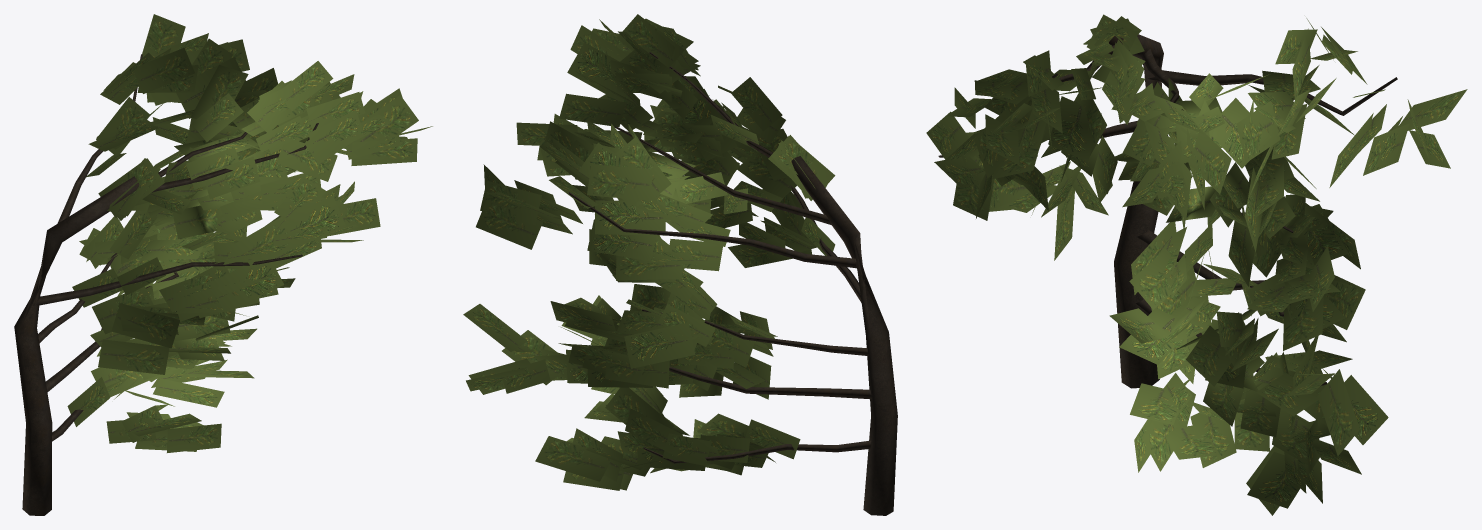
Rendered from krummholz_pine_v03_LOD2.fbx.
3 renders of one model, left to right at view 1: azimuth 30°, elevation 25°; view 2: azimuth 150°, elevation 25°; view 3: azimuth 270°, elevation 25°, orthographic. The views are drawn at different scales.
Visible parts, largest first — view 1: krummholz_pine_v03_LOD2; view 2: krummholz_pine_v03_LOD2; view 3: krummholz_pine_v03_LOD2.
Part boxes in pixels (x1,y1,x2,y2): krummholz_pine_v03_LOD2: [14, 14, 432, 515]; krummholz_pine_v03_LOD2: [463, 14, 897, 515]; krummholz_pine_v03_LOD2: [926, 14, 1467, 515].
Size of the model in its own units: 330 by 340 by 354.
Materials: 2 (2 with a texture image).
